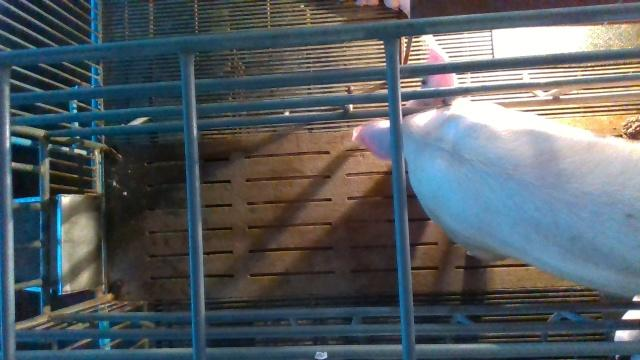sow-stand: (352, 40, 640, 297)
